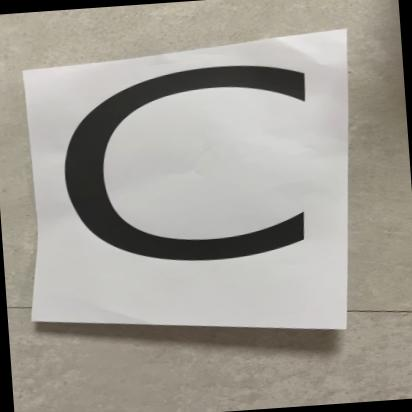seat: (32, 44, 350, 346)
